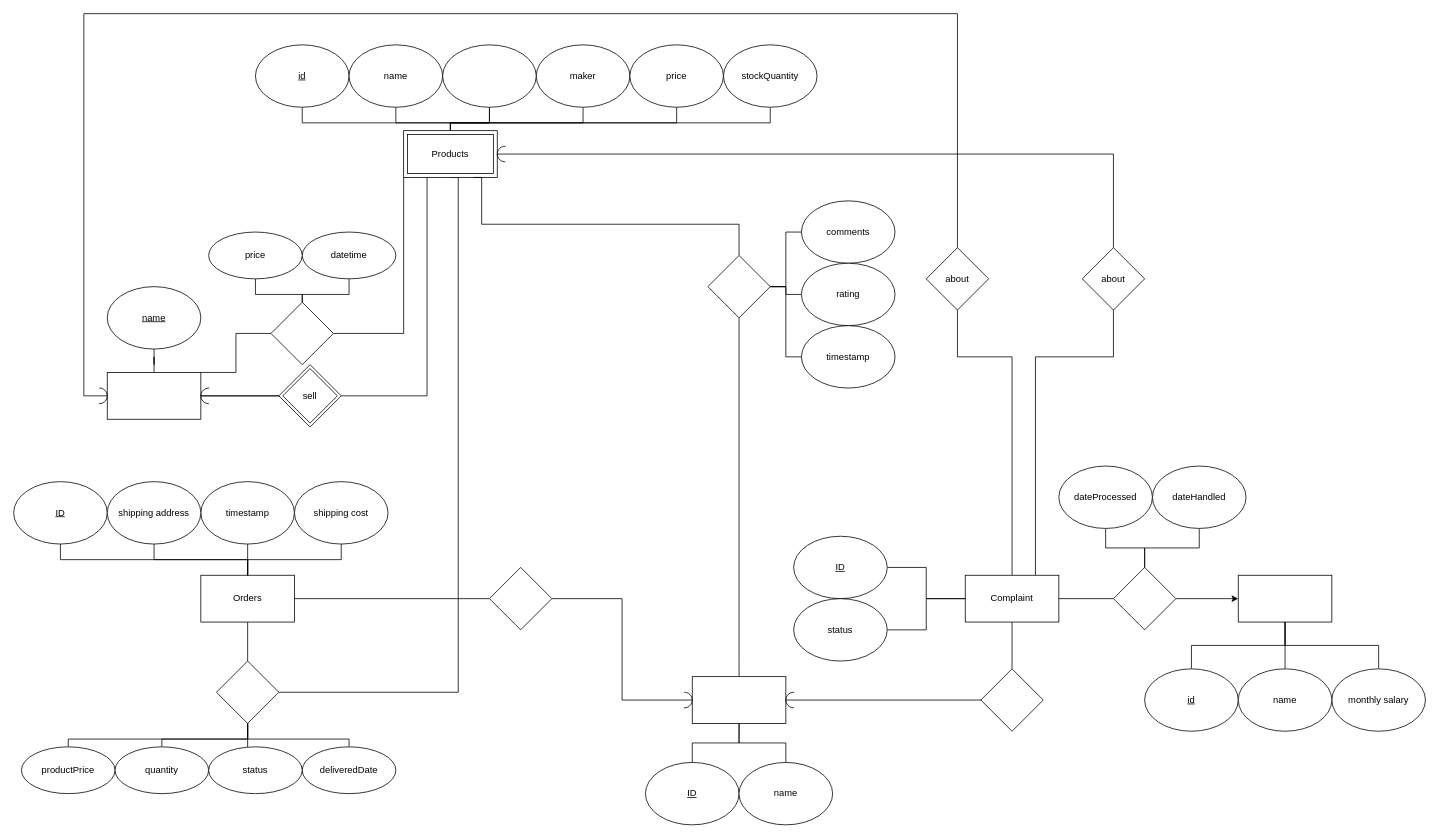
The diagram is 1439 pixels wide and 838 high, and some of its shapes have lost their labels. Here are the shapes that lost their labels. From the top down, the centre of each, then its label:
At point 489,75: "category".
At point 738,286: "RATE".
At point 301,333: "history".
At point 153,395: "Shops".
At point 520,598: "places".
At point 1144,598: "handles".
At point 1284,598: "Employees".
At point 247,691: "contains".
At point 738,699: "Users".
At point 1011,699: "makes".
